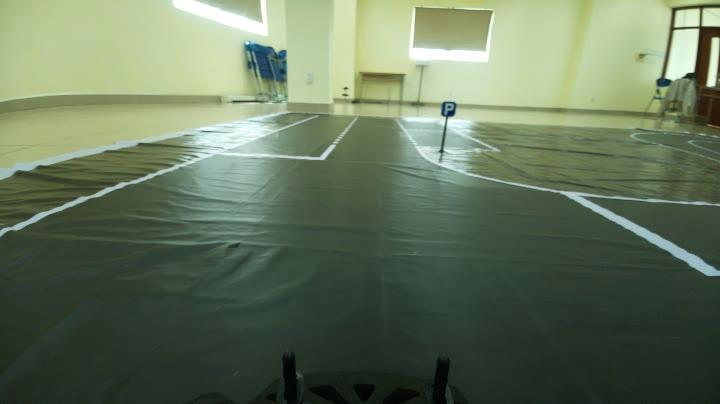parking: (437, 95, 461, 123)
